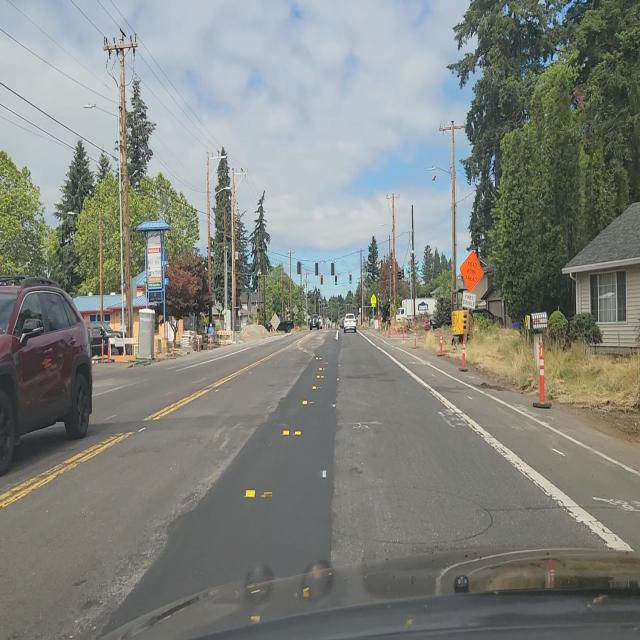car: (1, 274, 96, 481), (88, 322, 125, 358), (343, 312, 358, 334), (274, 319, 294, 333), (309, 314, 321, 330)
crosswalk-sign: (370, 294, 377, 307), (377, 300, 381, 310)
delineator: (537, 341, 546, 406), (458, 334, 468, 372), (438, 330, 444, 356), (106, 338, 111, 362), (101, 338, 105, 361), (413, 327, 417, 349), (242, 326, 246, 342), (172, 341, 175, 358), (402, 325, 405, 341), (388, 322, 391, 336), (379, 320, 382, 333), (156, 346, 158, 361), (262, 328, 265, 338), (396, 324, 399, 333)
